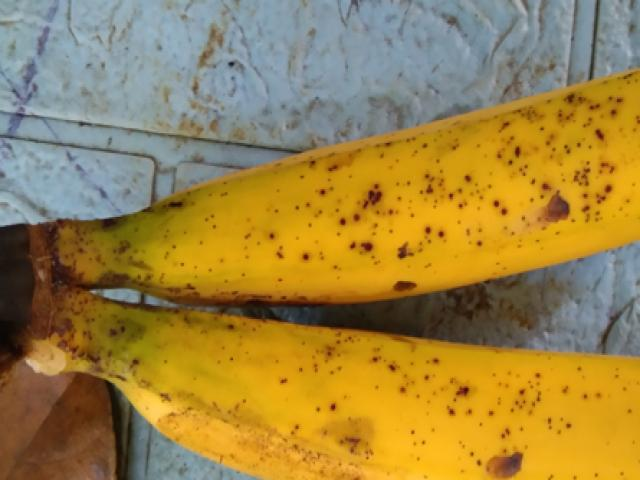ripe: (81, 54, 639, 296), (126, 314, 639, 479)
